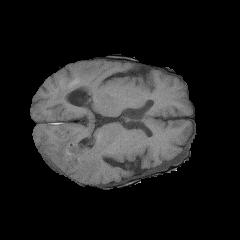glioma: (38, 81, 108, 176)
